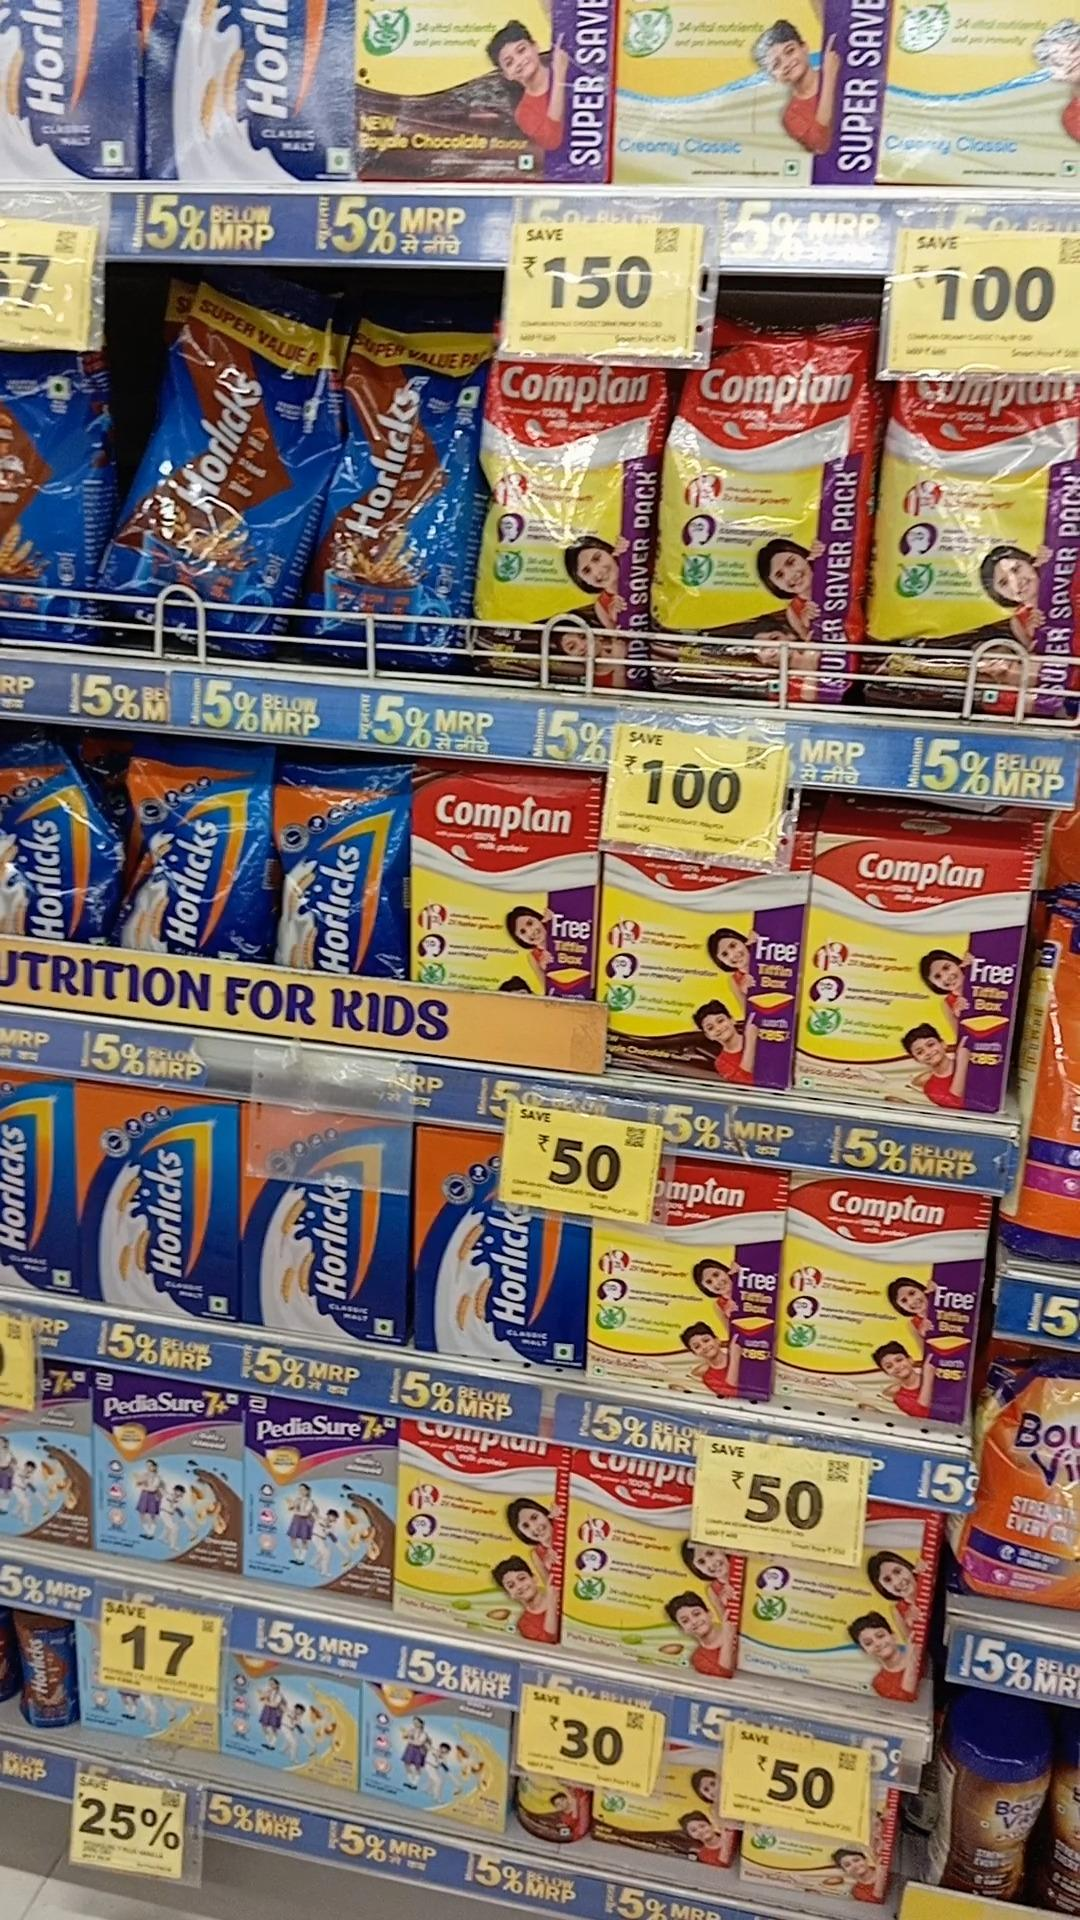BOURN_VITA_500_G_POUCH: (973, 1348, 1080, 1606)
BOURN_VITA_FIVE_STAR_MAGIC_500_G_JAR: (938, 1710, 1040, 1894)
COMPLAN_CHOCOLATE_500_GMS_PACK: (597, 849, 795, 1093), (404, 775, 592, 997)
COMPLAN_KESAR_BADAM_500_GMS_PACK: (795, 833, 1027, 1101), (779, 1180, 967, 1420), (591, 1154, 777, 1395)
COMPLAN_PISTA_BADAM_500_GMS_PACK: (393, 1422, 560, 1640), (568, 1460, 738, 1675)
COMPLAN_RC_POUCH_700_GMS_12: (653, 328, 862, 703), (872, 384, 1080, 724), (487, 368, 650, 698)
HORLICK_CHOCOLATE_200_G_JAR: (12, 1604, 74, 1727)
HORLICK_CHOCOLATE_750_G_POUCH: (135, 309, 327, 662), (334, 322, 477, 674)
HORLICK_CLASSIC_MALT_500_G_PACK: (70, 1093, 243, 1320), (245, 1105, 407, 1336), (411, 1153, 580, 1365)
HORLICK_CLASSIC_MALT_750_G_POUCH: (121, 735, 265, 968), (269, 766, 397, 971), (0, 748, 115, 948)
